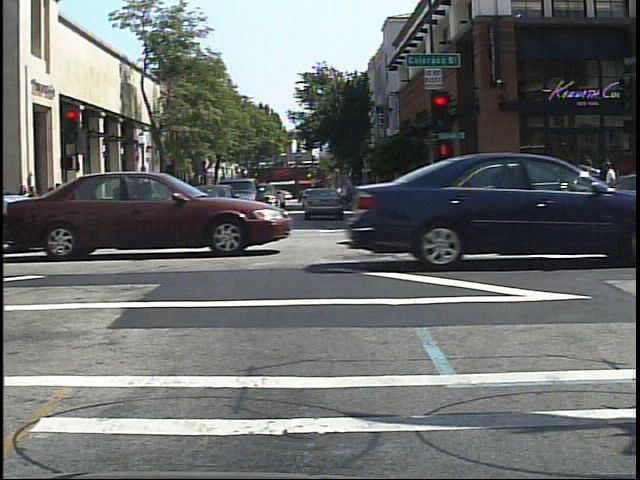person: (598, 156, 624, 221)
